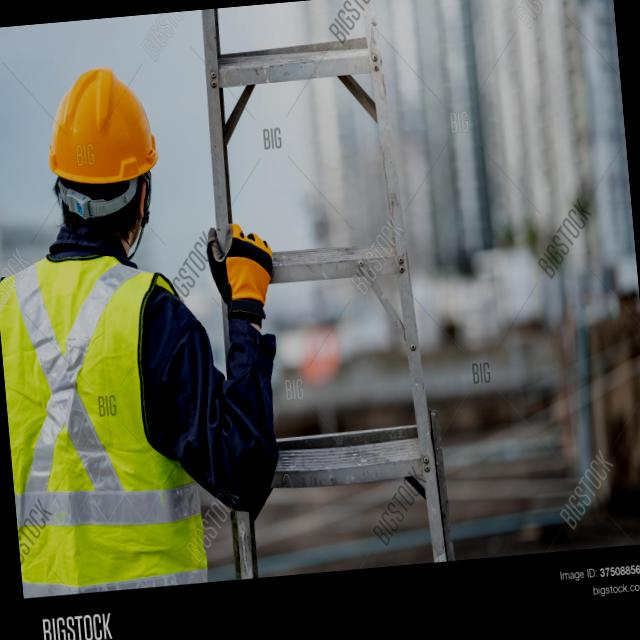helmet: (29, 54, 172, 200)
vest: (0, 227, 223, 602)
